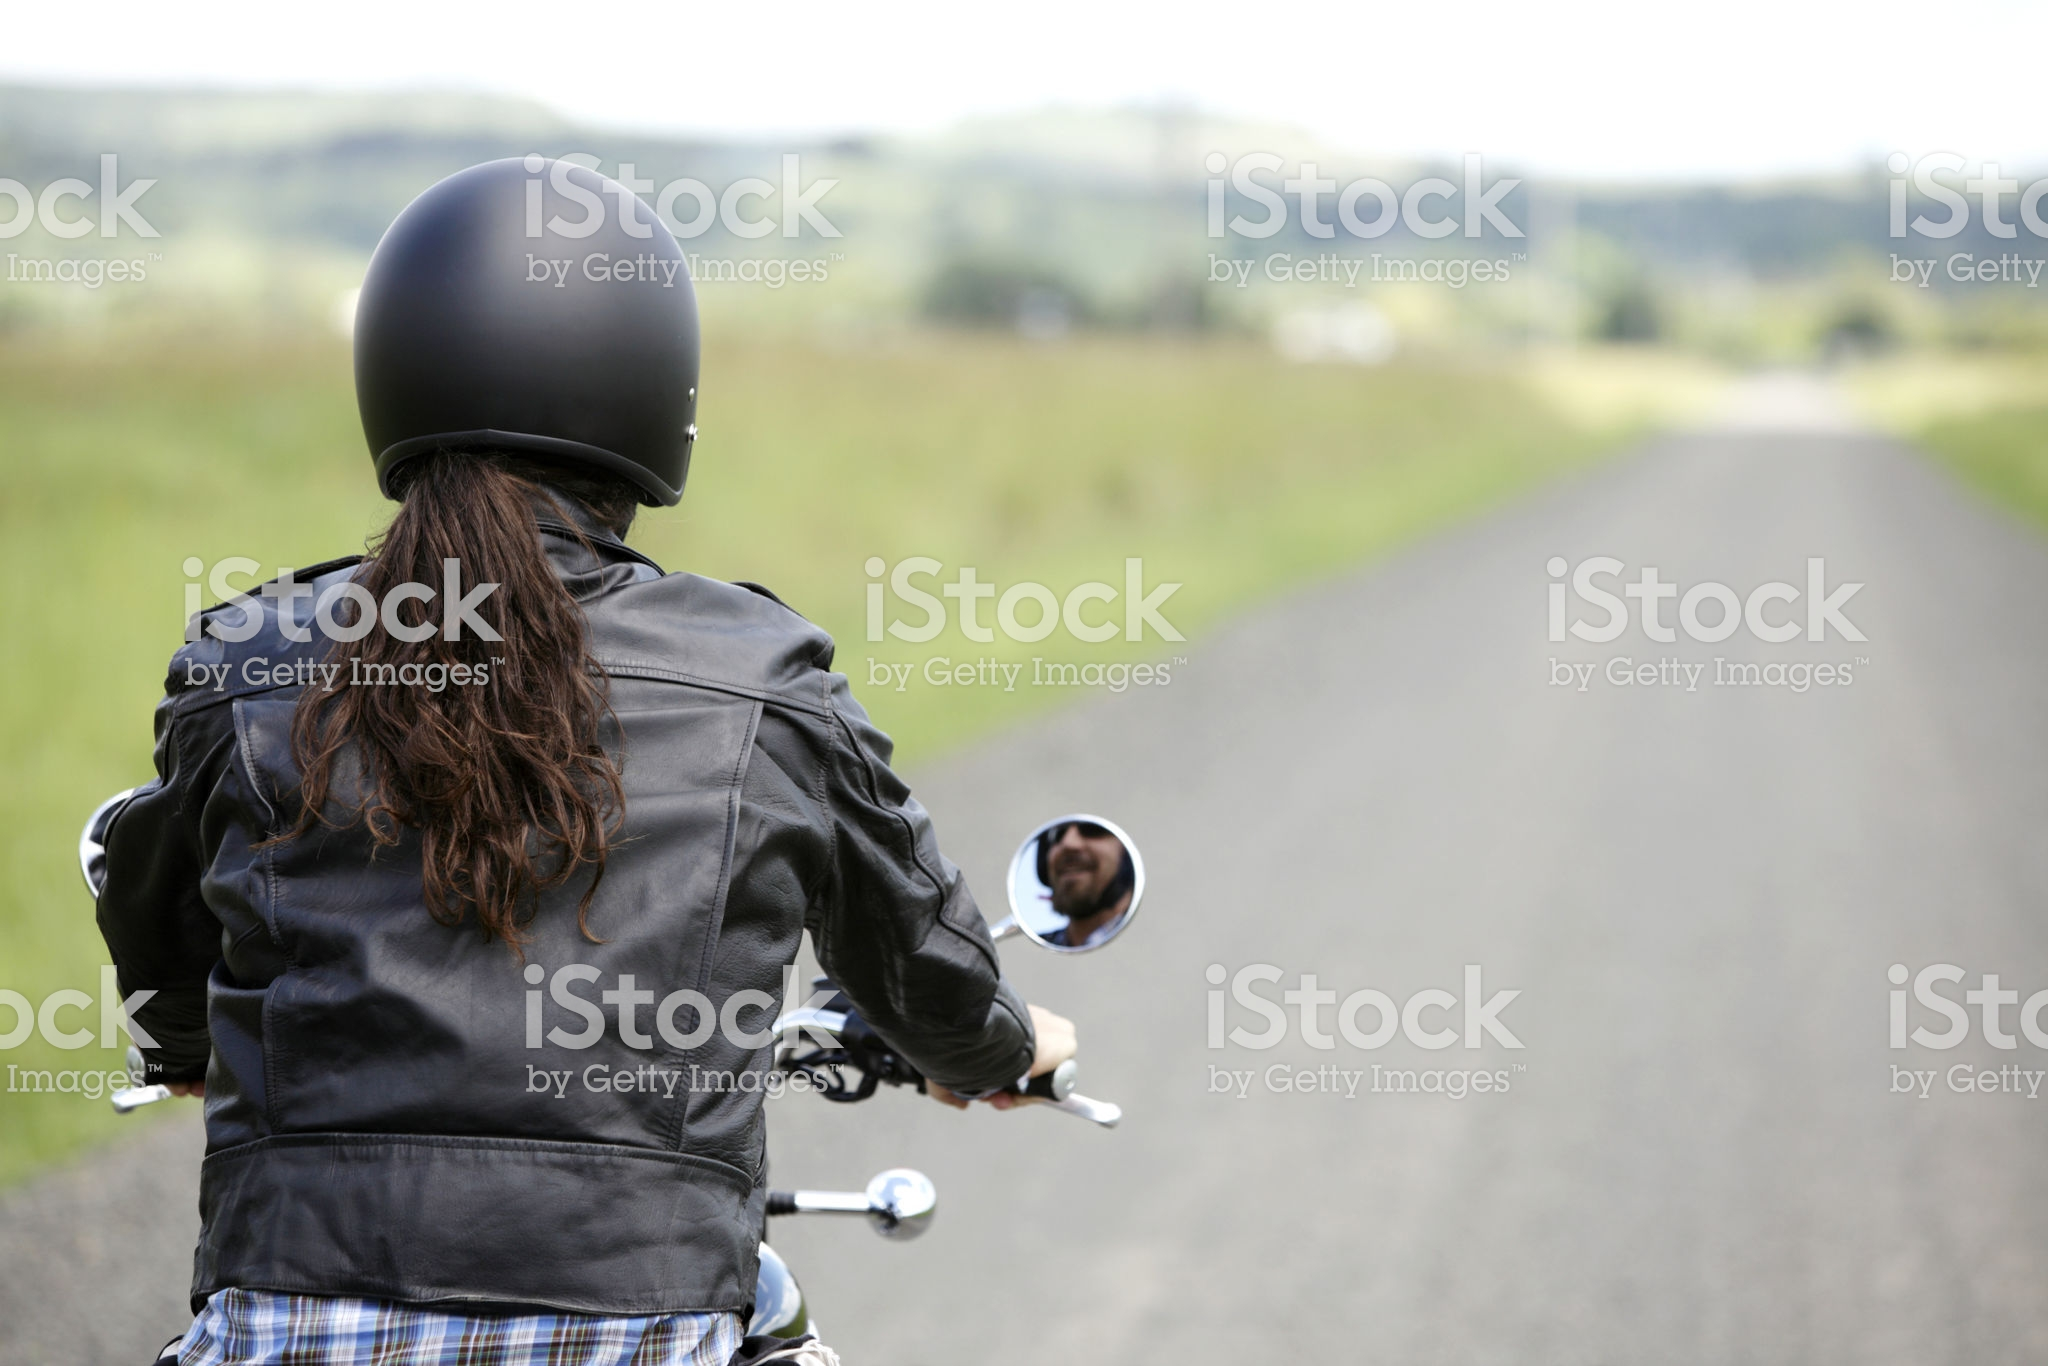helmet: (315, 152, 728, 523)
